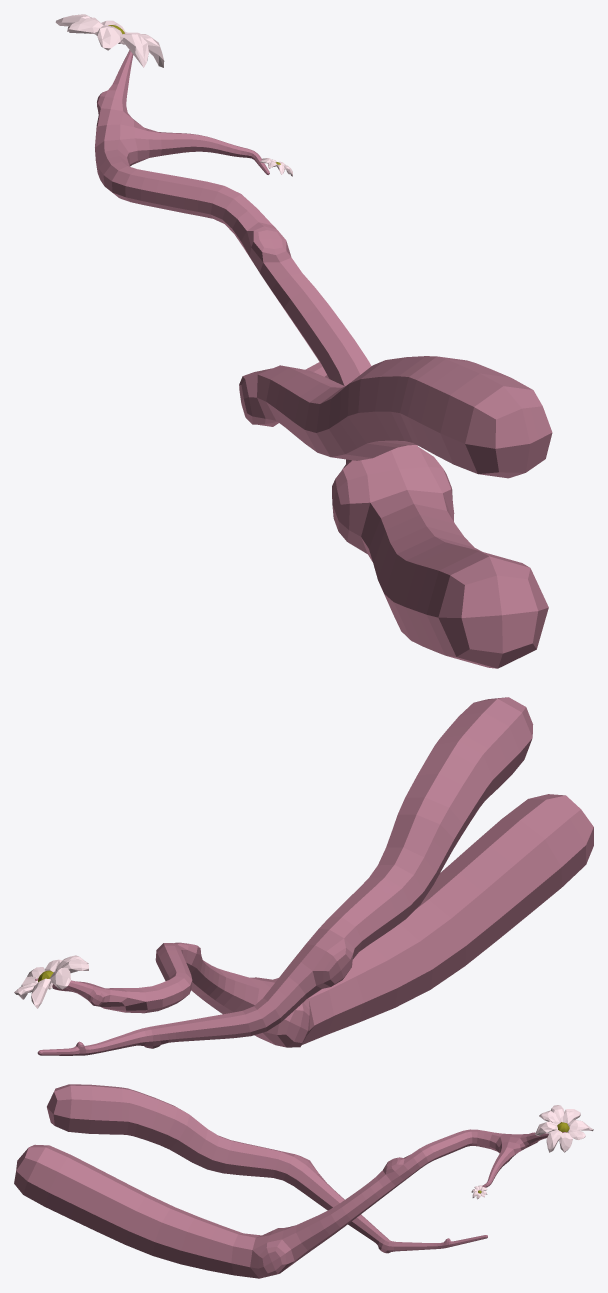
Rendered from F Branches.fbx.
The picture shows the model from 3 angles, top to bottom: view 1: azimuth 30°, elevation 25°; view 2: azimuth 150°, elevation 25°; view 3: azimuth 270°, elevation 25°; orthographic projection. The views are drawn at different scales.
Visible parts, largest first — view 1: Plane.001; view 2: Plane.001; view 3: Plane.001.
Boxes of the visible parts, x1,y1,x2,y2 form: Plane.001: (55, 14, 552, 668); Plane.001: (14, 697, 593, 1055); Plane.001: (14, 1084, 593, 1278).
Bounding box in the file's own units: 161 × 183 × 567.
